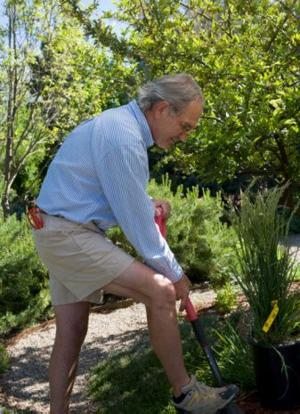person: (34, 75, 240, 414)
